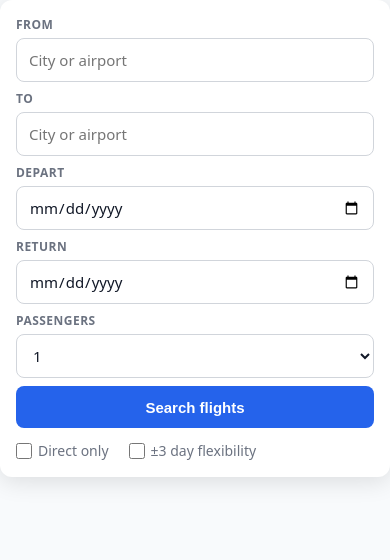
Test: HomeSearchBar › rejects past departure date with inline error
Type "LHR" into the dropdown labelled "From" at (195,60), box [16,38,374,82]
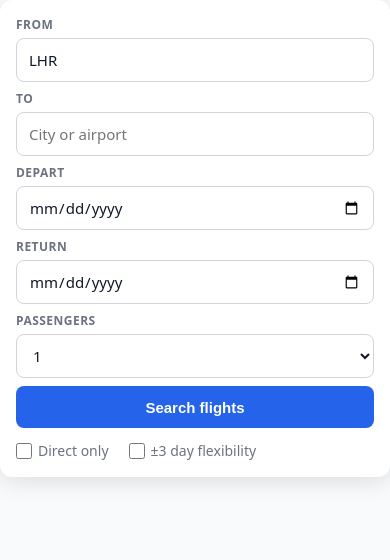
Type "JFK" into the dropdown labelled "To" at (195,134), box [16,112,374,156]
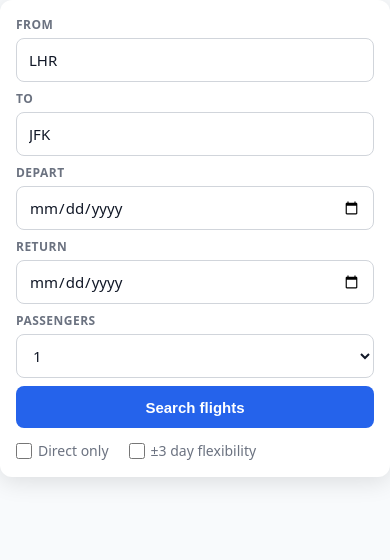
Type "2020-01-01" into the date field labelled "Depart" at (195,208), box [16,186,374,230]
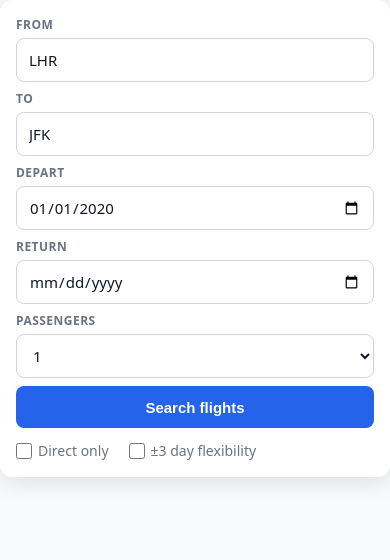
Click the button "Search flights" at (195,407), box [16,386,374,428]
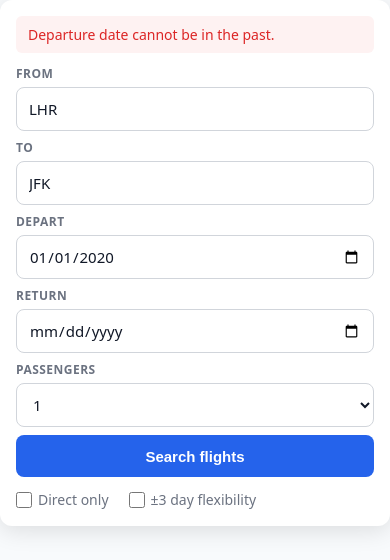
Now the message shows "past", box [28,25,274,44]
